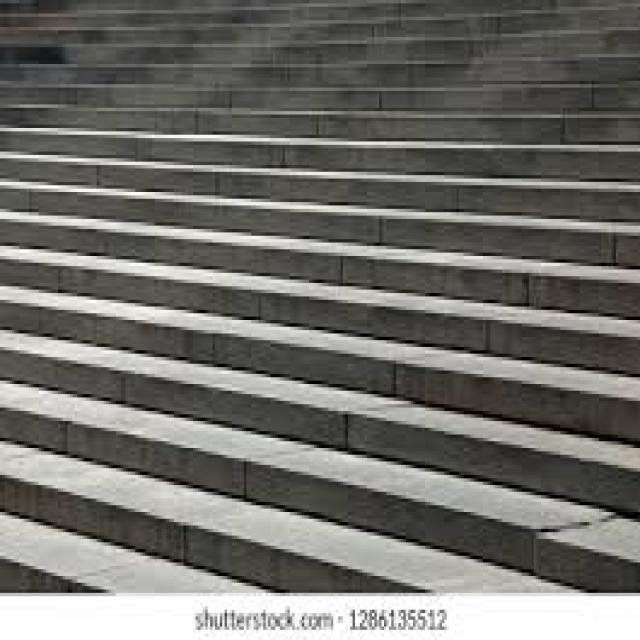upstair: (1, 1, 634, 590)
